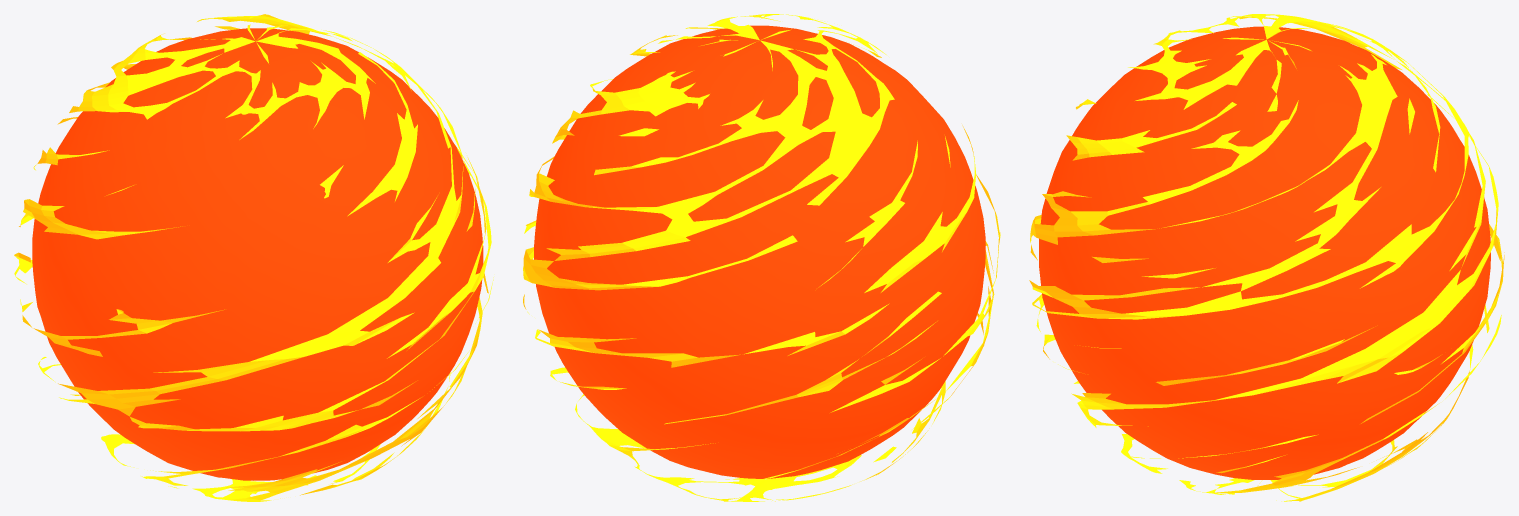
Rendered from fireball.glb.
3 renders of one model, left to right at view 1: azimuth 30°, elevation 25°; view 2: azimuth 150°, elevation 25°; view 3: azimuth 270°, elevation 25°, orthographic.
Bounding box in the file's own units: 1.9 × 1.95 × 1.89.
